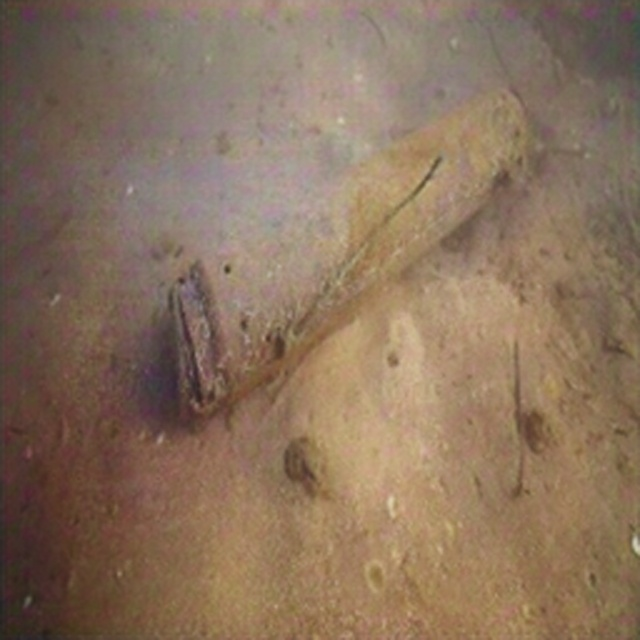mine: (168, 86, 531, 417)
